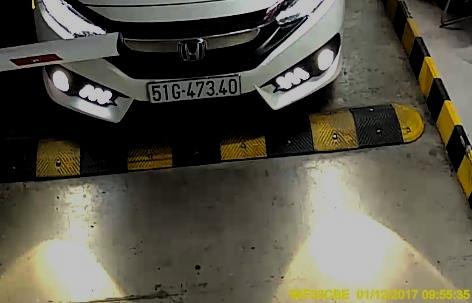plate: (144, 76, 243, 103)
